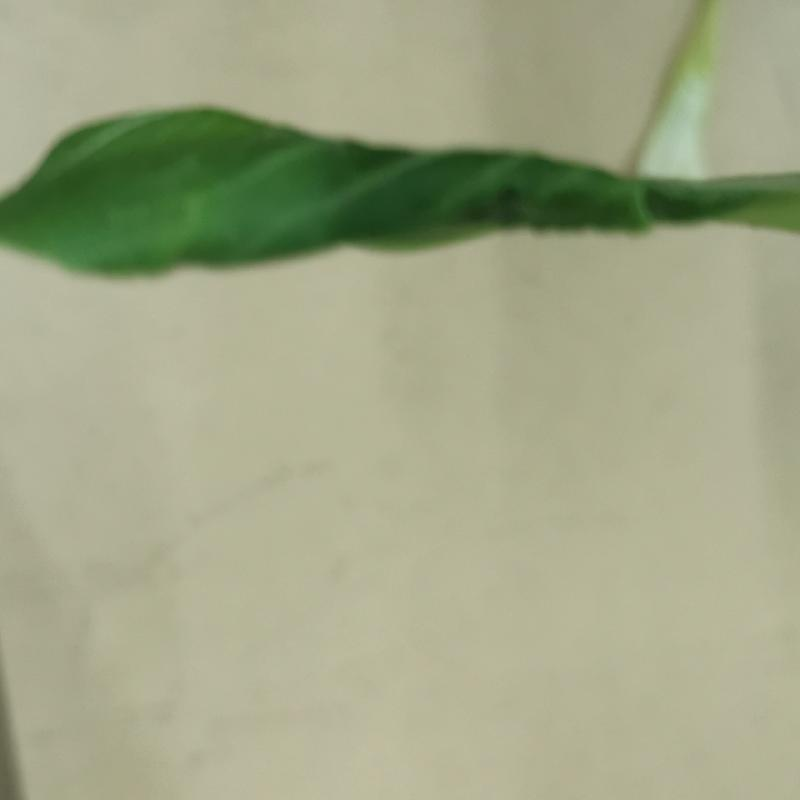green vegatable: (9, 65, 799, 324)
